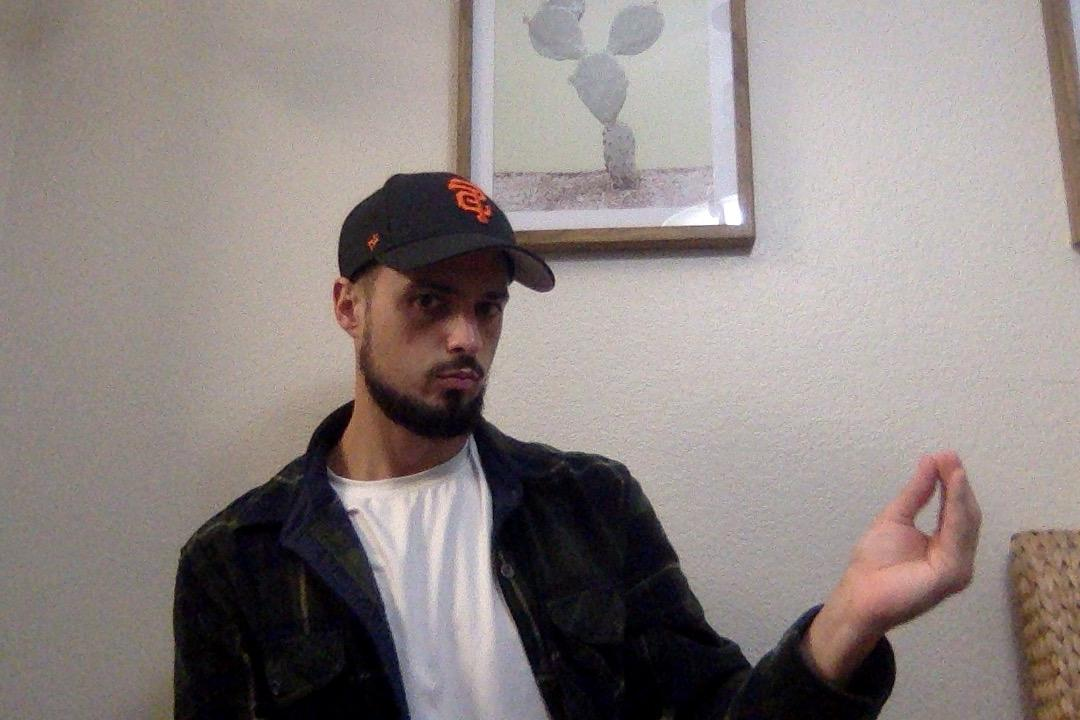Italian-Gesture: (809, 448, 993, 665)
